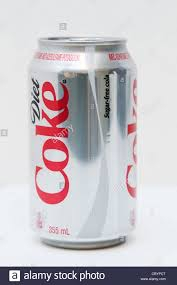can: (24, 30, 144, 251)
